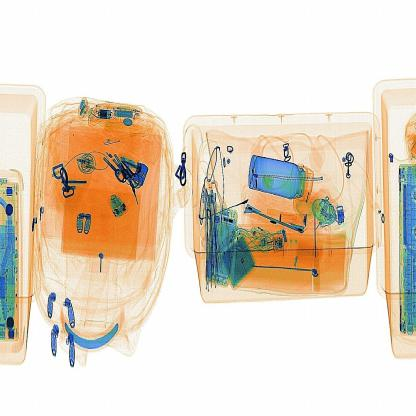wrench: (310, 210, 326, 296)
